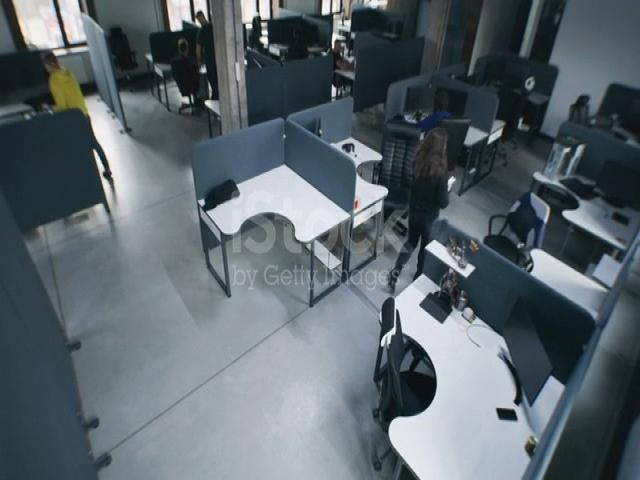EMPTY_CHAIR: (371, 284, 433, 461), (483, 174, 547, 272), (378, 108, 418, 212), (490, 61, 530, 155), (563, 76, 611, 140), (109, 17, 143, 92), (28, 82, 72, 122)
PERSON_IN_CHAIR: (325, 24, 369, 120), (169, 31, 207, 134), (425, 71, 468, 148)
